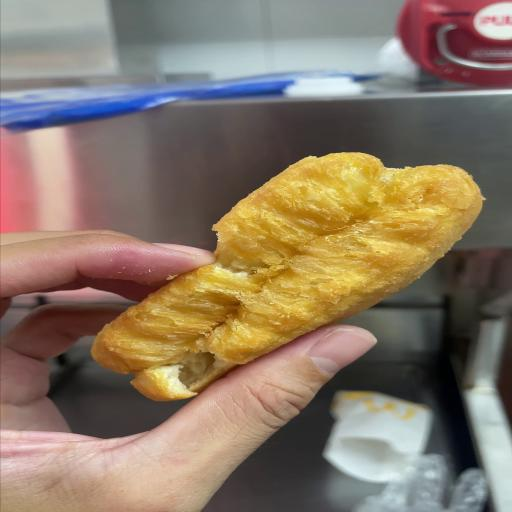brand_golden_defect: (91, 153, 481, 401)
